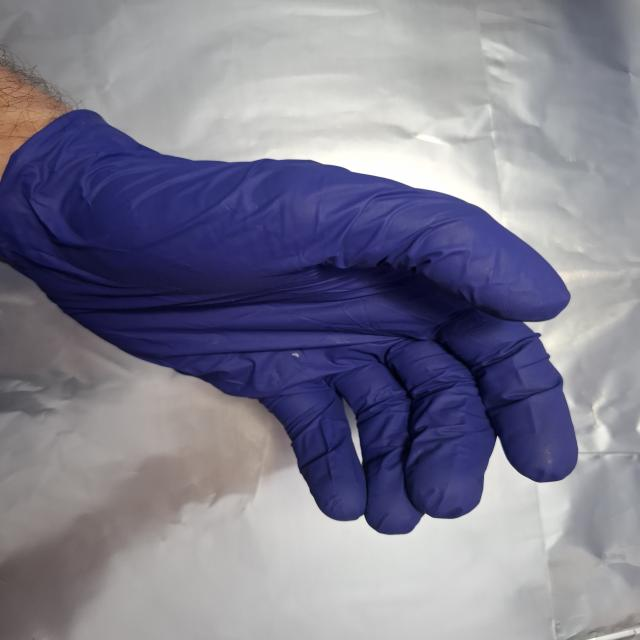glove_on: (1, 105, 584, 537)
